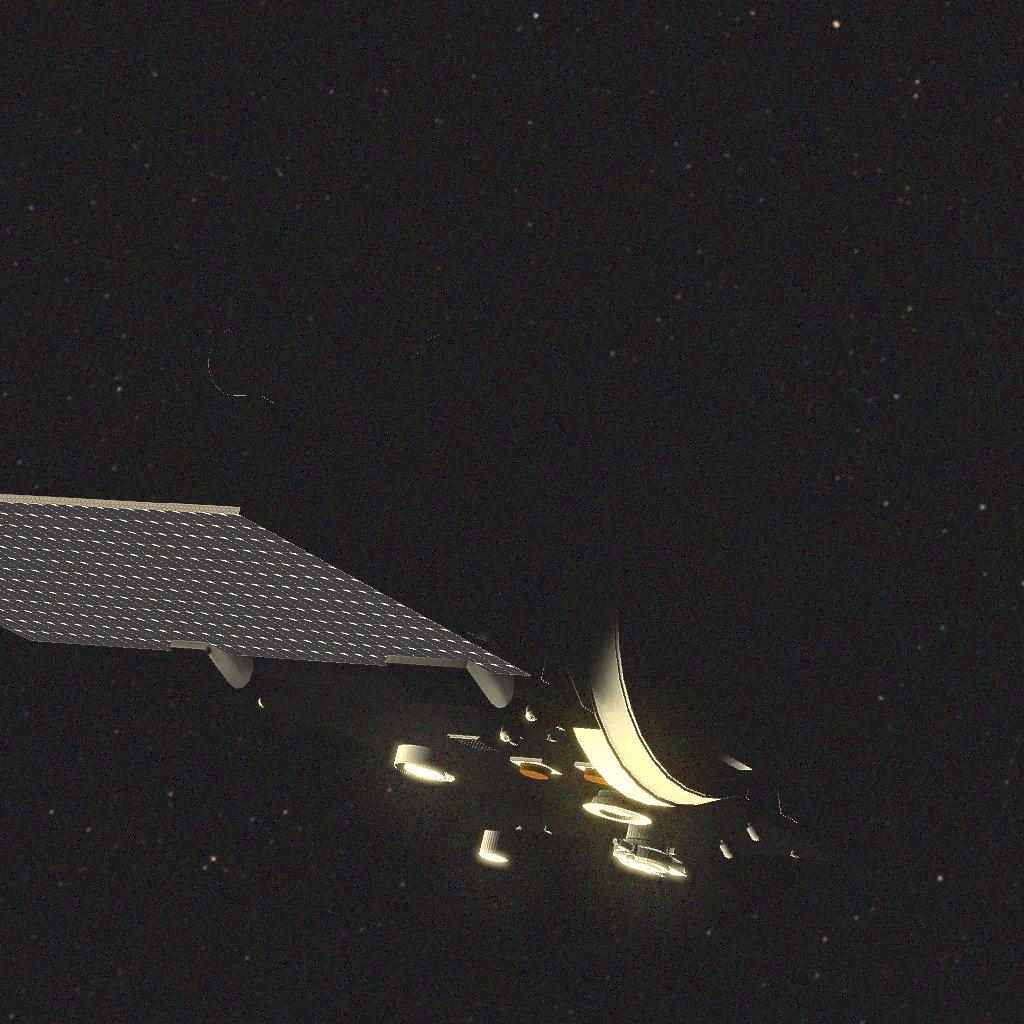proba_3_csc: (9, 182, 890, 884)
